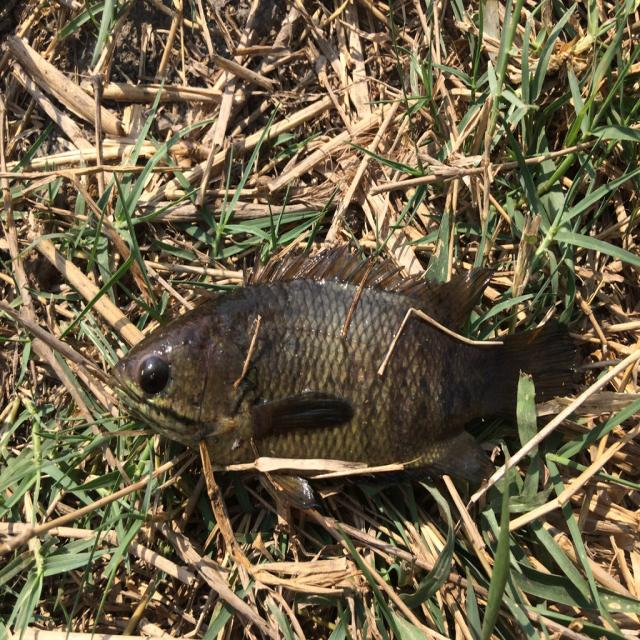Climbing-Perch: (98, 244, 612, 514)
